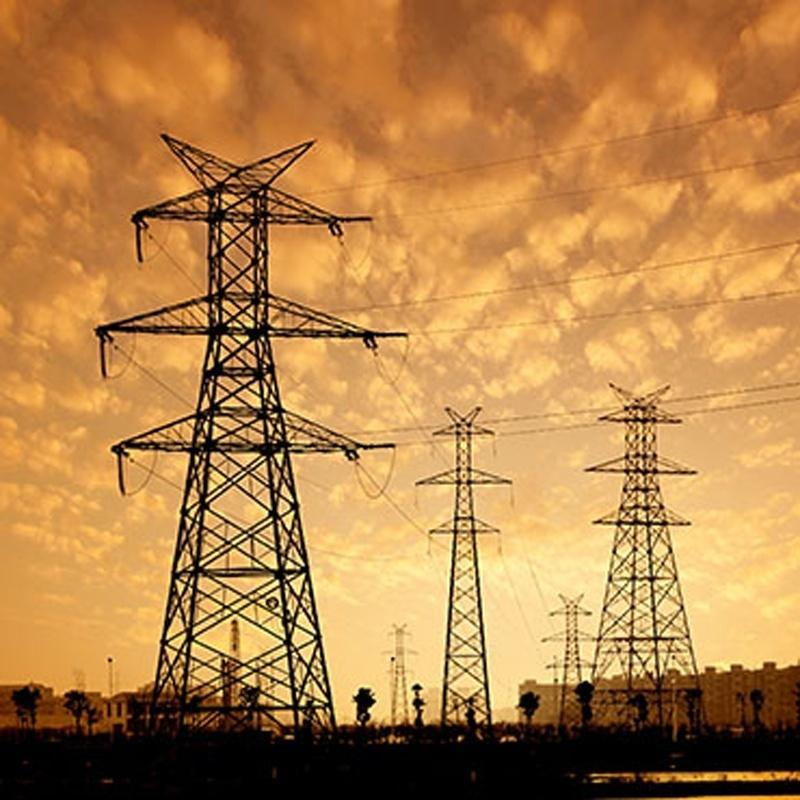power_tower: (94, 131, 408, 741), (584, 383, 706, 729), (412, 406, 514, 730), (540, 589, 597, 729), (382, 619, 418, 737)
